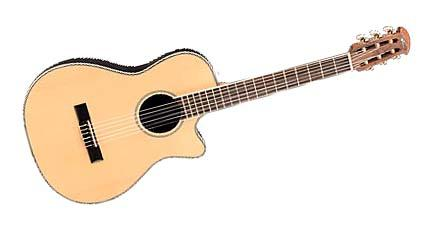guitar: (24, 24, 413, 204)
